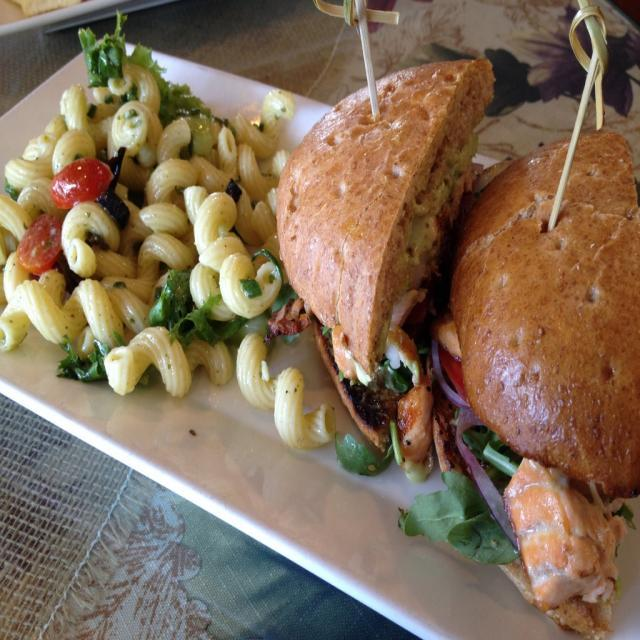Sandwich: (276, 56, 498, 454)
